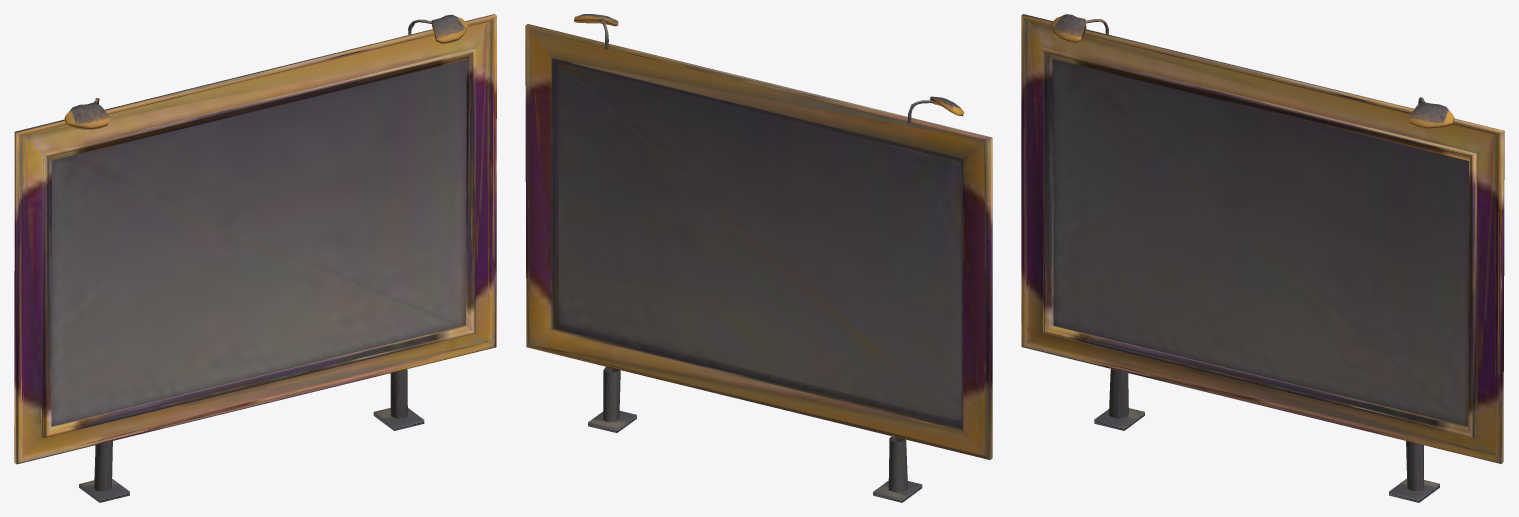
File: core_sign.glb
3 views of the same model, side by side, from view 1: azimuth 30°, elevation 25°; view 2: azimuth 150°, elevation 25°; view 3: azimuth 330°, elevation 25° (orthographic). The views are drawn at different scales.
Size of the model in its own units: 5 by 4.02 by 0.6323.
1 material, 1 textured.
